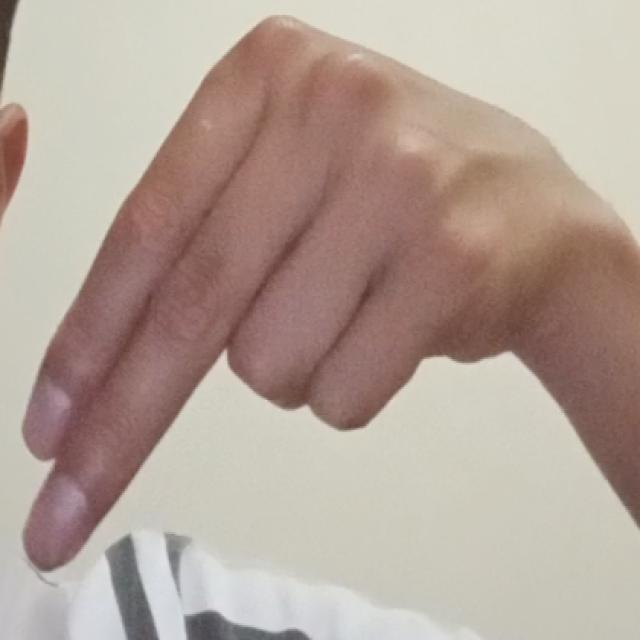N: (7, 7, 635, 580)
